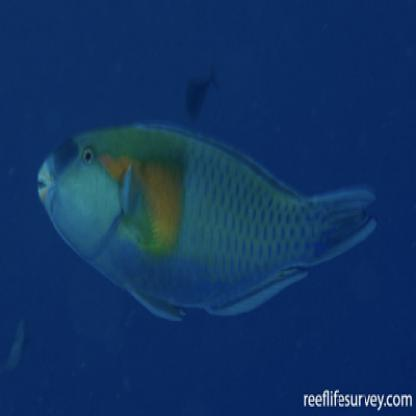Scaridae -Parrotfishes-: (34, 110, 381, 328)
